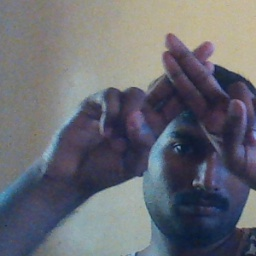F: (104, 28, 253, 160)
